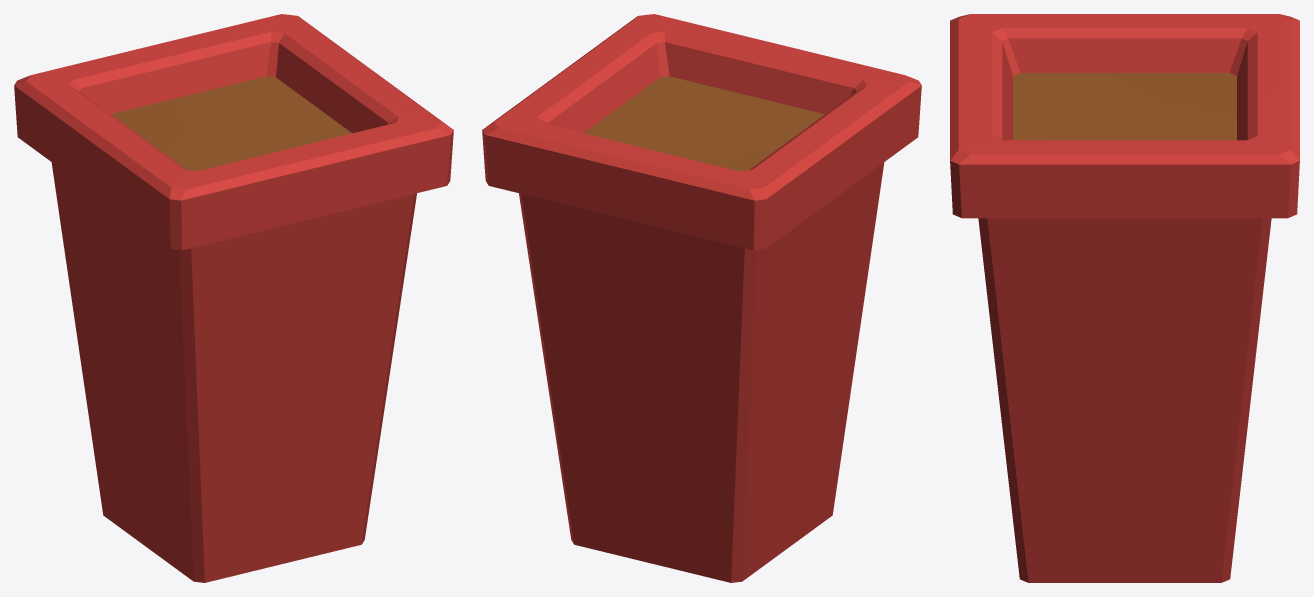
File: PlantPot_2_F.fbx
3 views of the same model, side by side, from view 1: azimuth 30°, elevation 25°; view 2: azimuth 150°, elevation 25°; view 3: azimuth 270°, elevation 25° (orthographic). The views are drawn at different scales.
Parts seen in each view (by area): view 1: PlantPot_2_F; view 2: PlantPot_2_F; view 3: PlantPot_2_F.
Part boxes in pixels (x1,y1,x2,y2): PlantPot_2_F: (14,14,453,582); PlantPot_2_F: (482,14,921,582); PlantPot_2_F: (950,14,1299,582).
Size of the model in its own units: 36.24 by 51.92 by 36.24.
